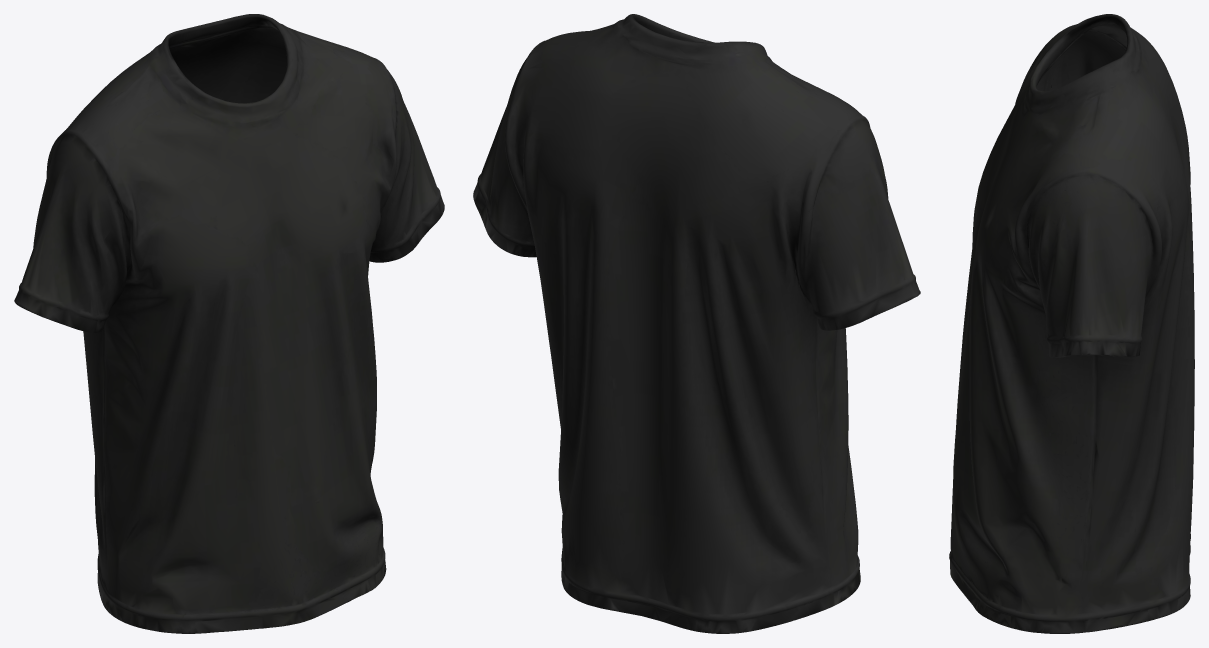
Rendered from camisa-flutuante-web.glb.
3 views of the same model, side by side, from view 1: azimuth 30°, elevation 25°; view 2: azimuth 150°, elevation 25°; view 3: azimuth 270°, elevation 25° (orthographic). The views are drawn at different scales.
Parts seen in each view (by area): view 1: node_0; view 2: node_0; view 3: node_0.
Boxes of the visible parts, x1,y1,x2,y2 form: node_0: [14, 14, 444, 633]; node_0: [473, 14, 920, 633]; node_0: [949, 14, 1194, 633].
Bounding box in the file's own units: 0.8915 × 1.08 × 0.4489.
1 material, 1 textured.
